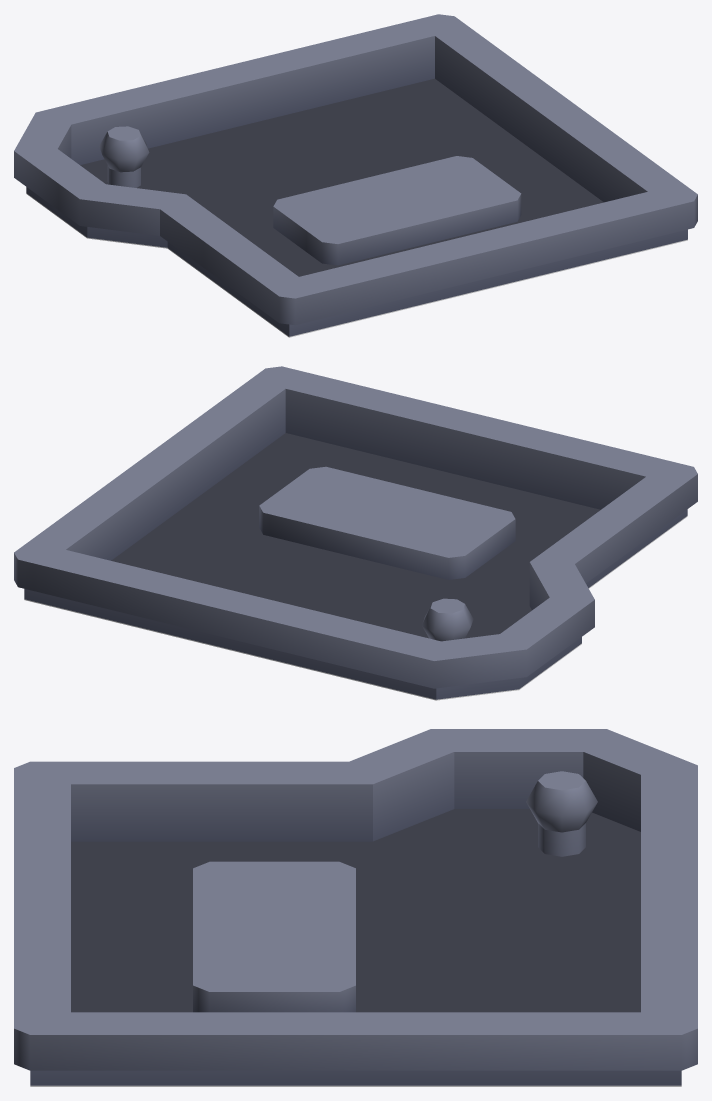
File: commercial-b.glb
3 renders of one model, top to bottom at view 1: azimuth 30°, elevation 25°; view 2: azimuth 150°, elevation 25°; view 3: azimuth 270°, elevation 25°, orthographic. The views are drawn at different scales.
Parts seen in each view (by area): view 1: building-b; view 2: building-b; view 3: building-b.
Part boxes in pixels (x1,y1,x2,y2): building-b: (14,14,697,337); building-b: (14,366,697,700); building-b: (14,729,697,1086).
Size of the model in its own units: 11 by 1.13 by 10.39.
1 material, 1 textured.
